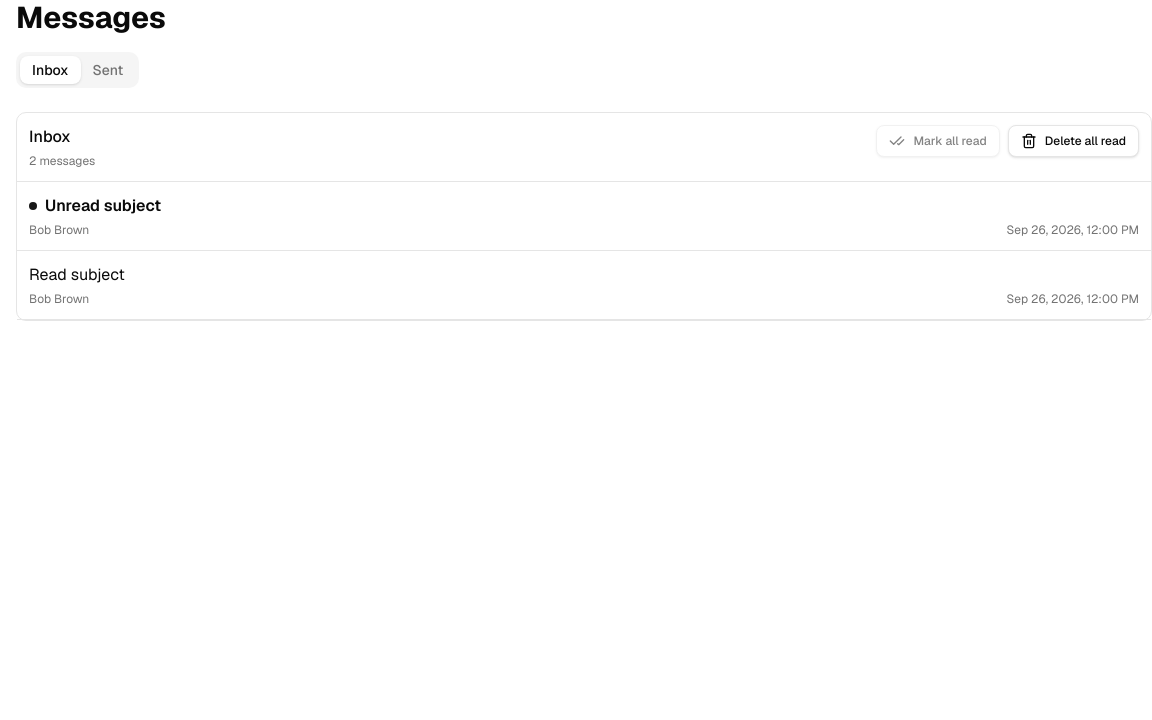
Test case: MessagesPage delete controls › does not delete when the confirmation is cancelled
Click the button "Delete all read".
click(1073, 141)  # box [1008,125,1139,157]
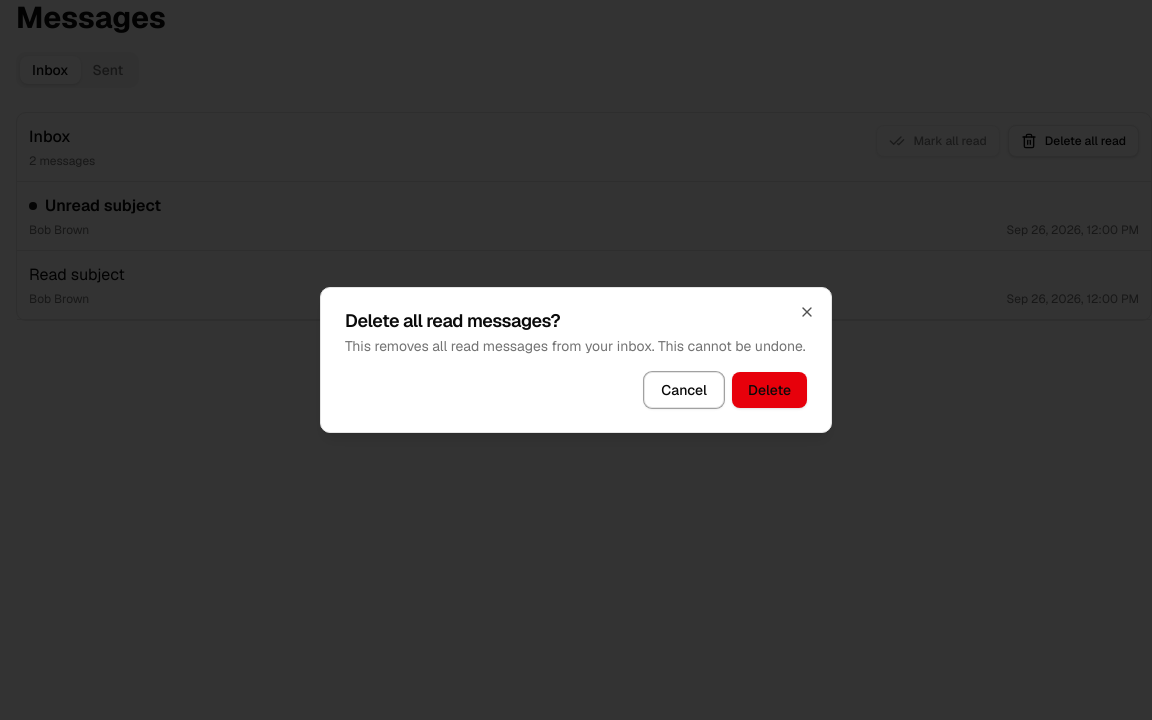
Click the button "Cancel".
click(684, 390)  # box [644,372,724,408]
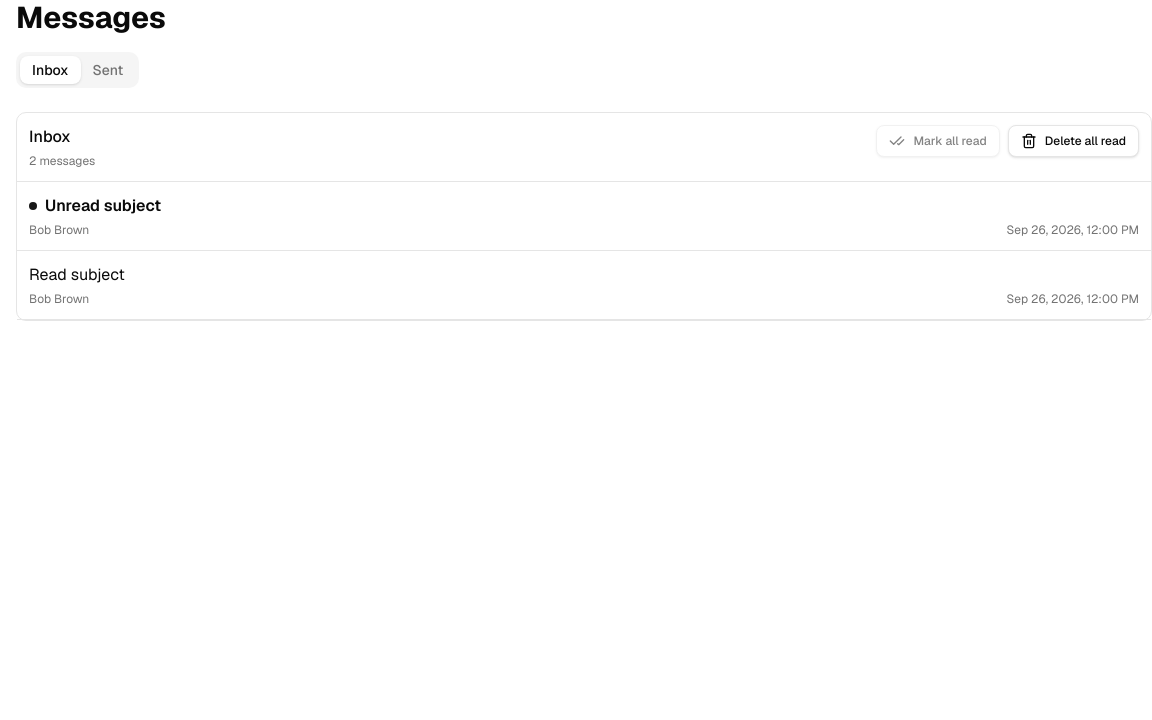
Expected: the heading "Delete all read messages?" is gone
